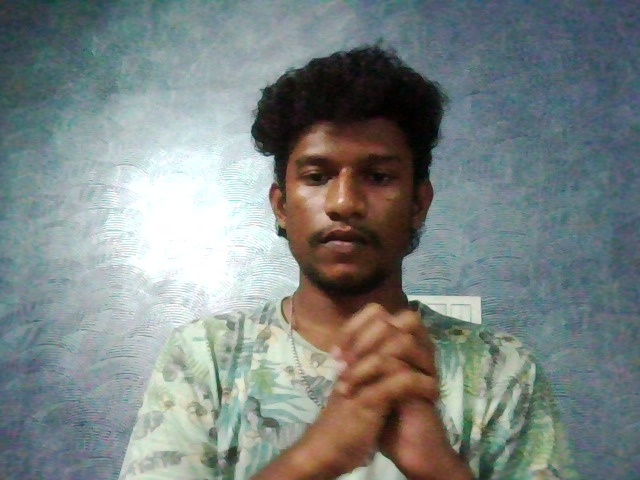together: (249, 281, 518, 474)
